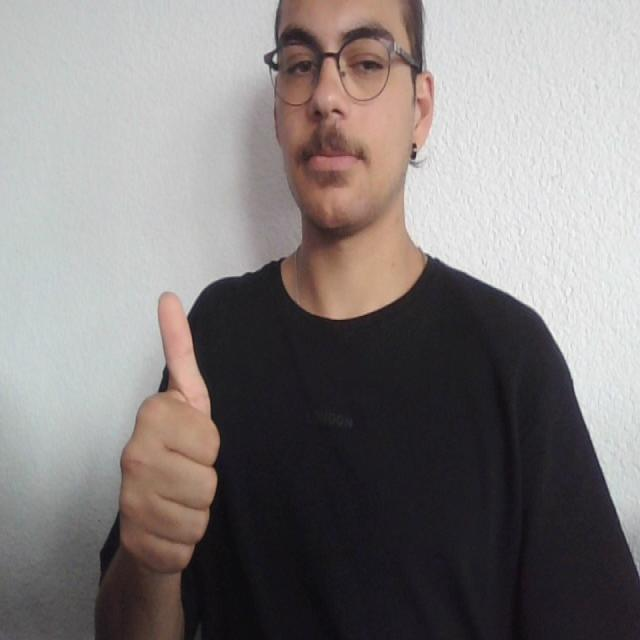Tamam: (109, 280, 237, 580)
